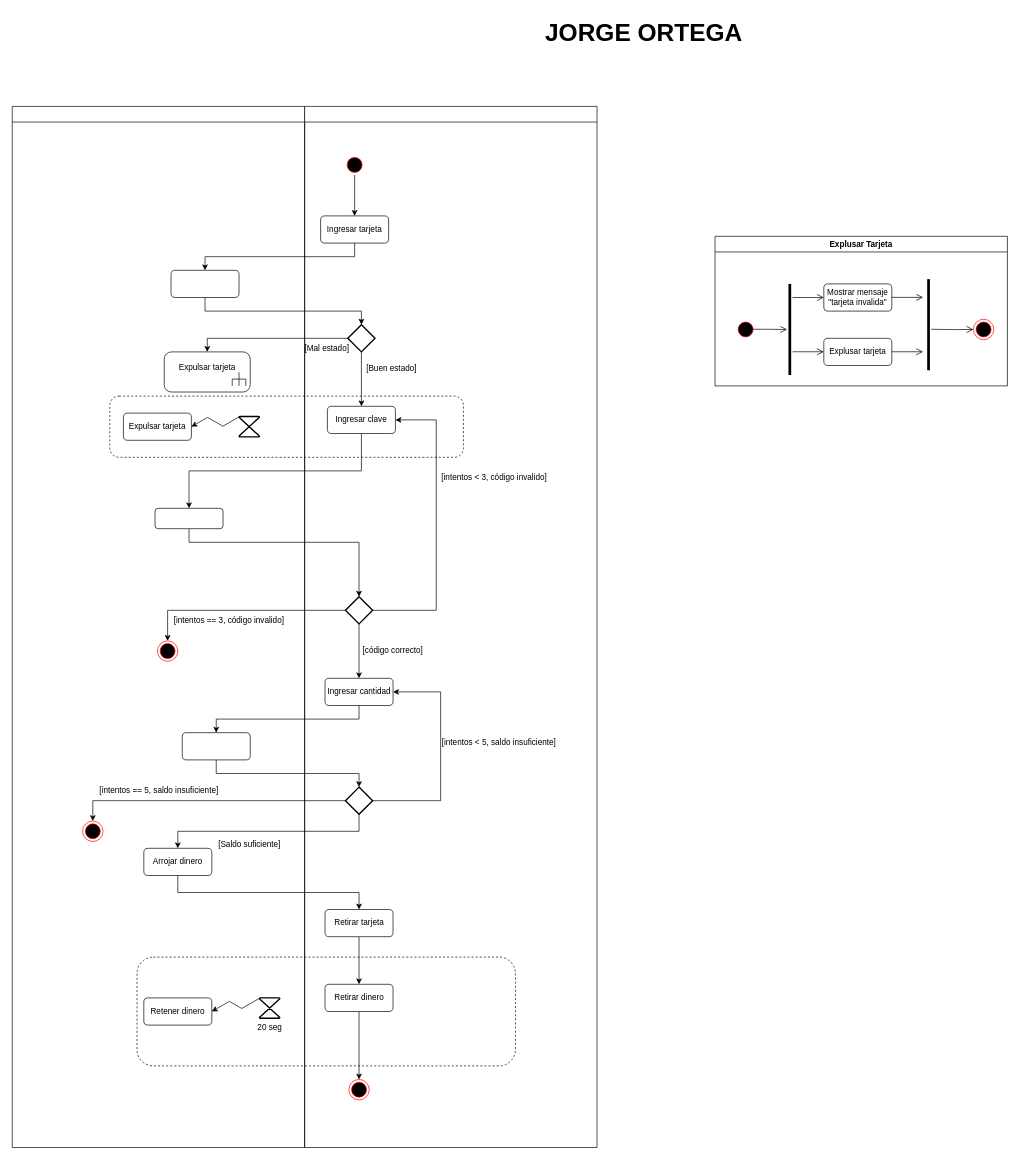
This 1019x1159 diagram has some shape labels left out. The box of each missing label's shape, as (x1, y1, x2, y2) in pixels:
1 min: (238, 415, 260, 437)
Cajero: (12, 106, 305, 1148)
Calcular saldo: (182, 732, 250, 760)
Cliente: (304, 106, 597, 1148)
Validar clave: (154, 508, 223, 529)
Verificar estado tarjeta: (170, 270, 239, 298)
